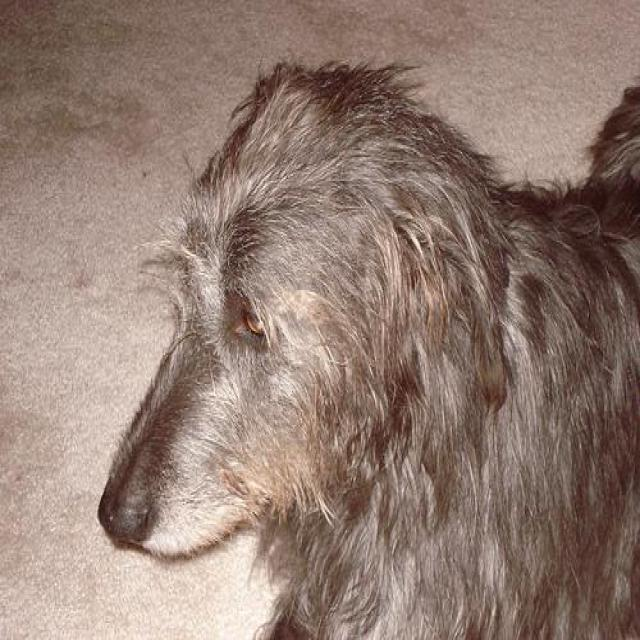irish_wolfhound: (96, 53, 637, 636)
